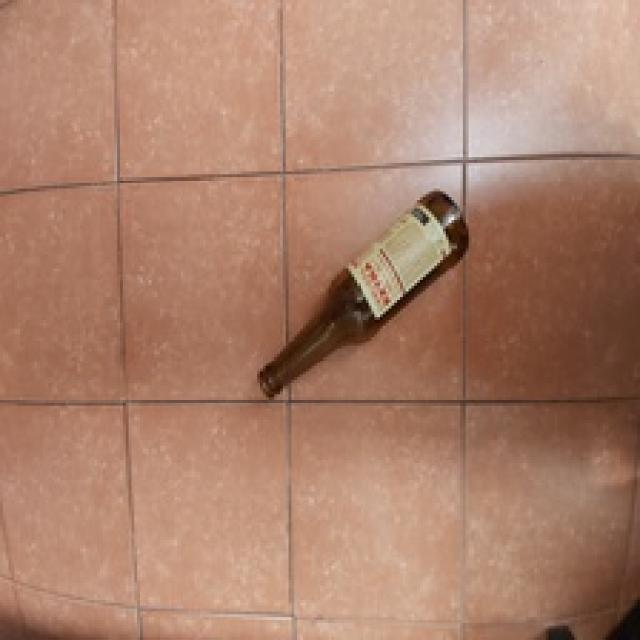garbage: (230, 180, 507, 399)
